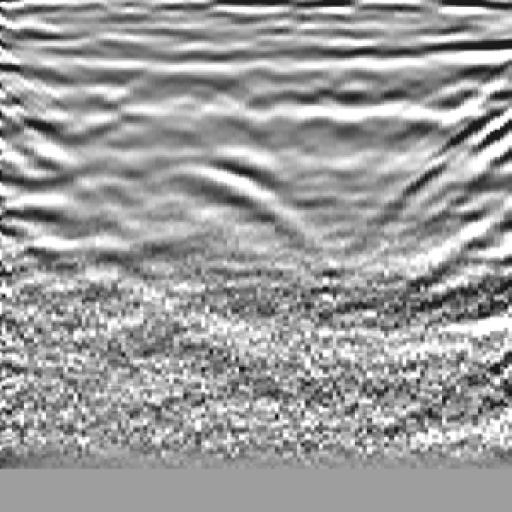metalic: (139, 136, 327, 278)
nonmetalic: (416, 34, 512, 276)
